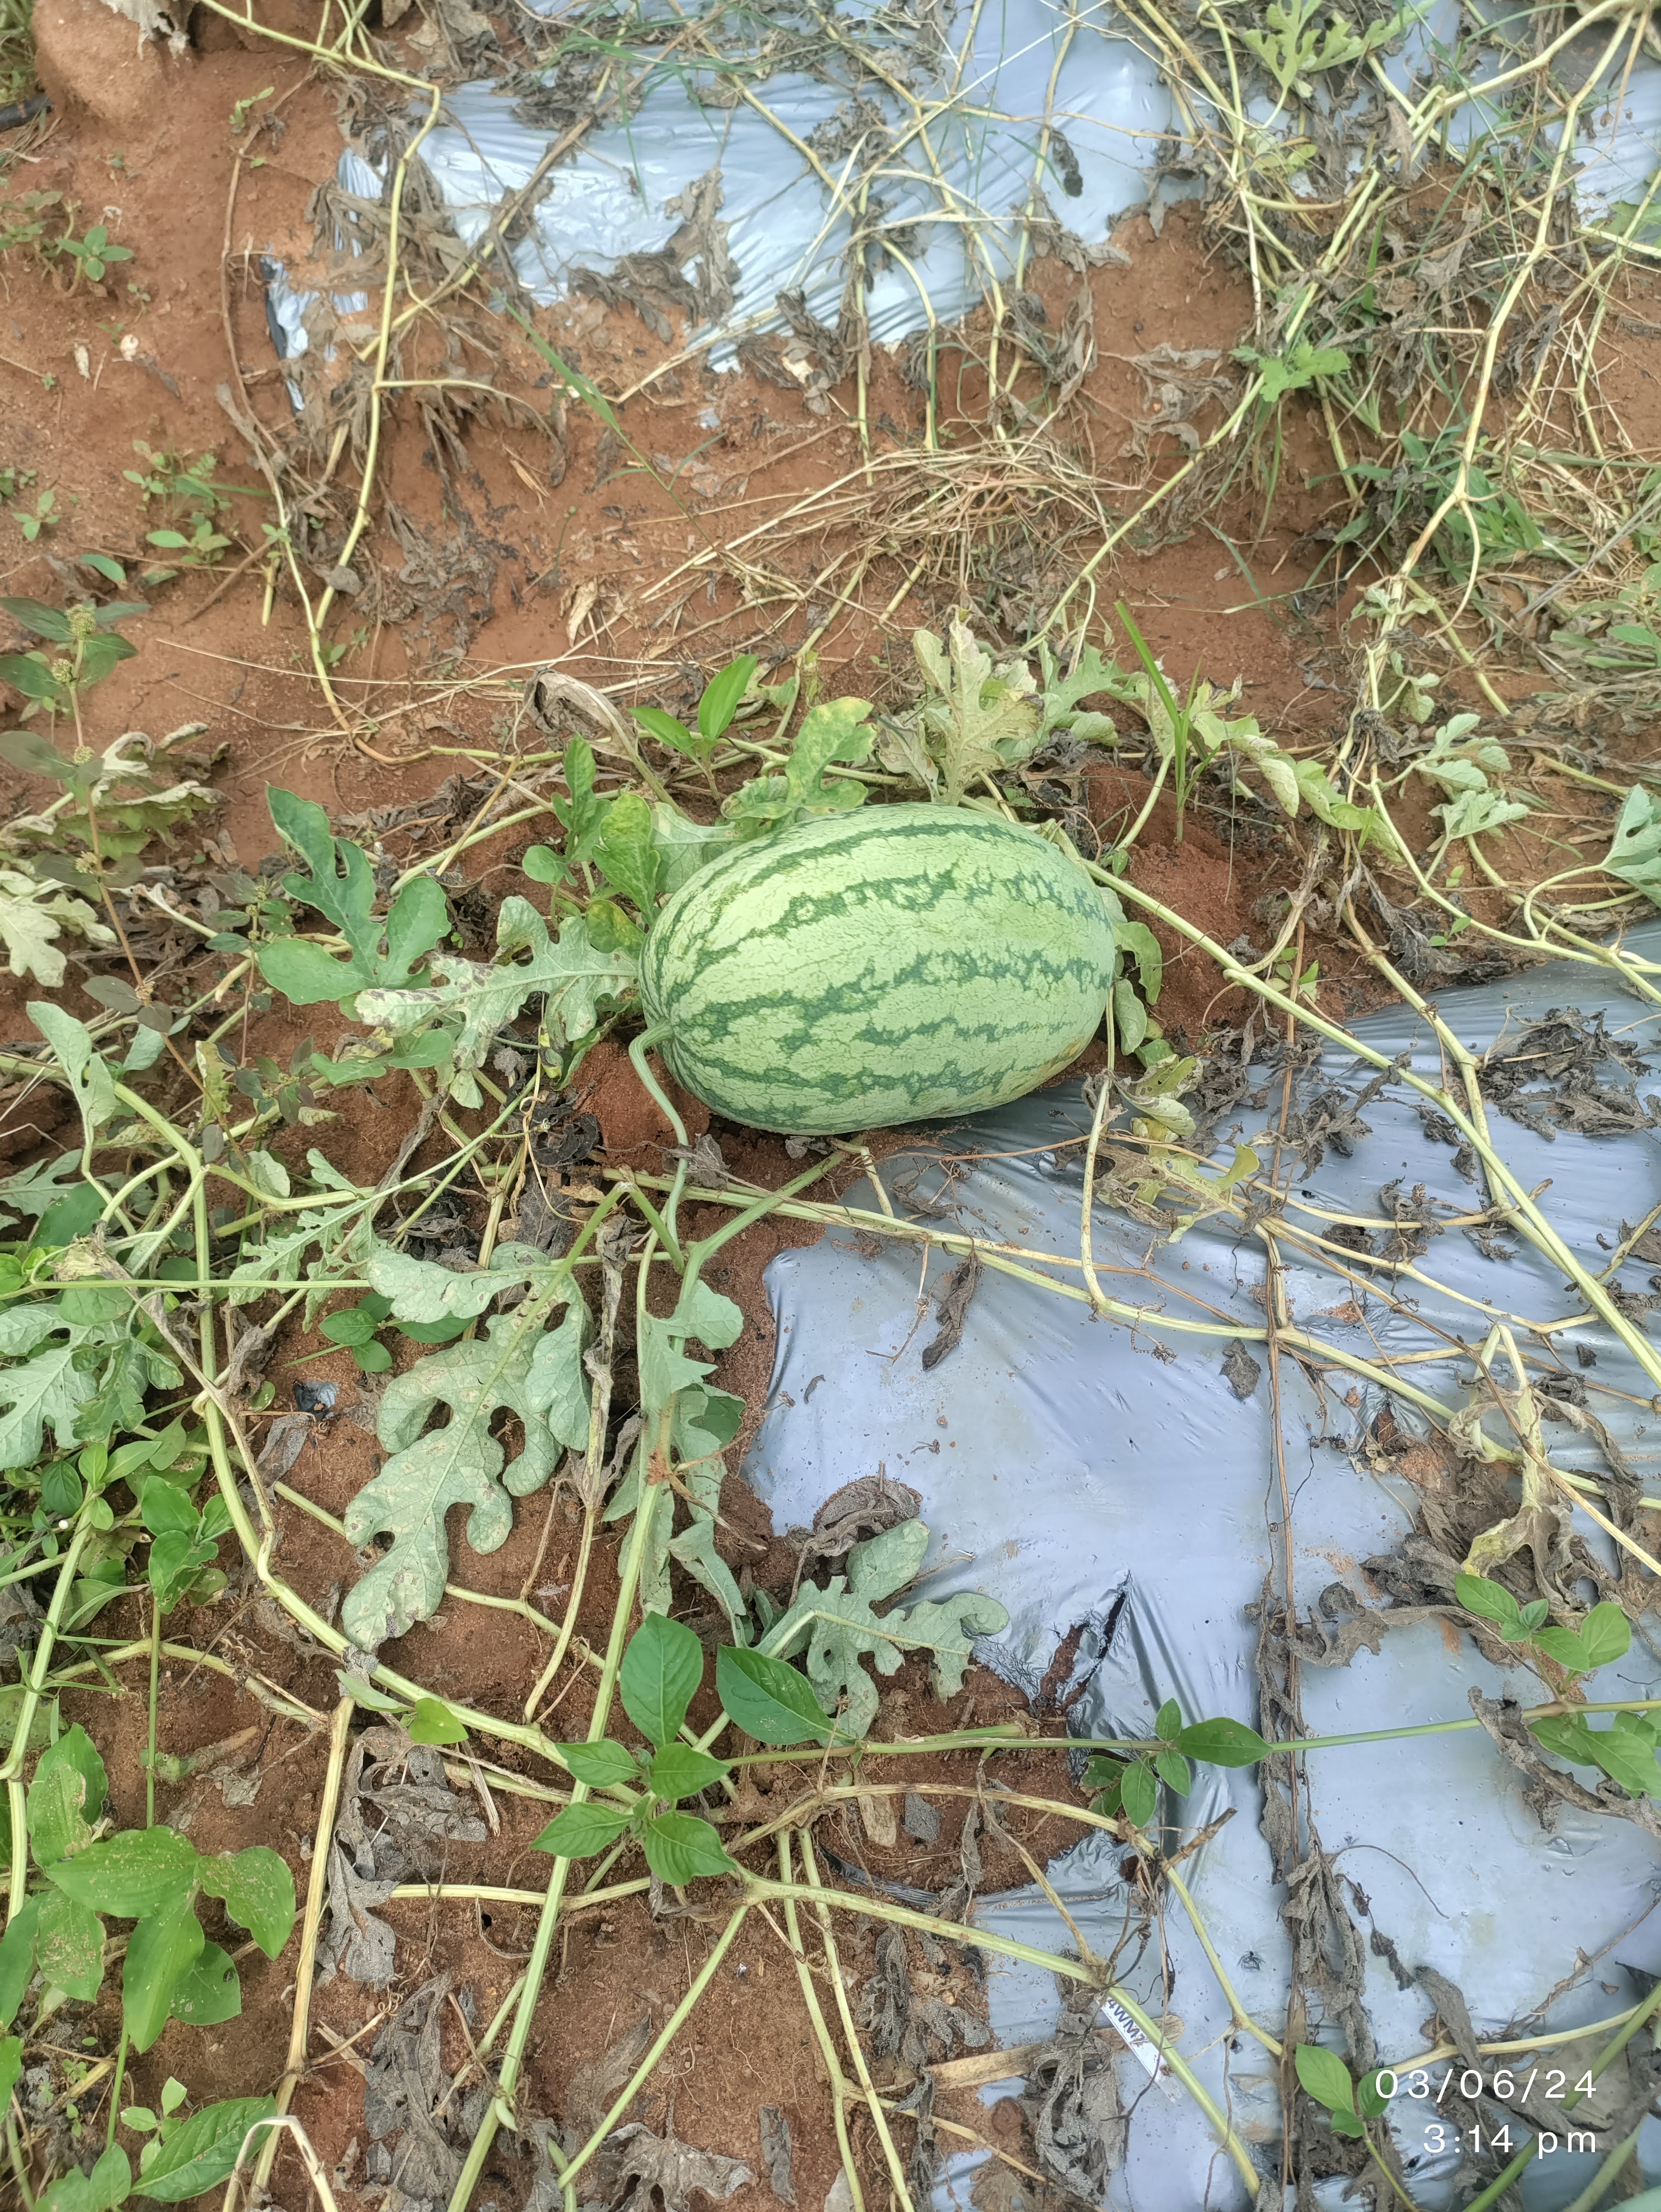good-to-harvest: (598, 804, 1200, 1144)
